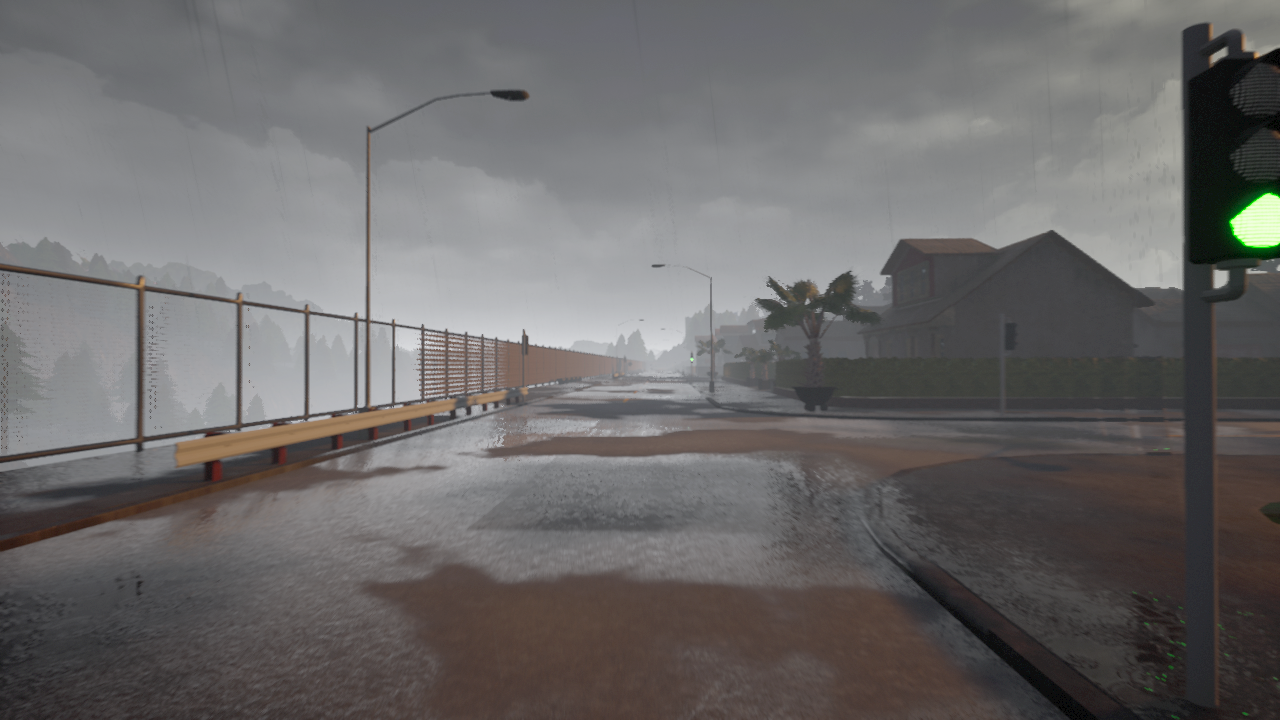green: (1204, 44, 1280, 272)
